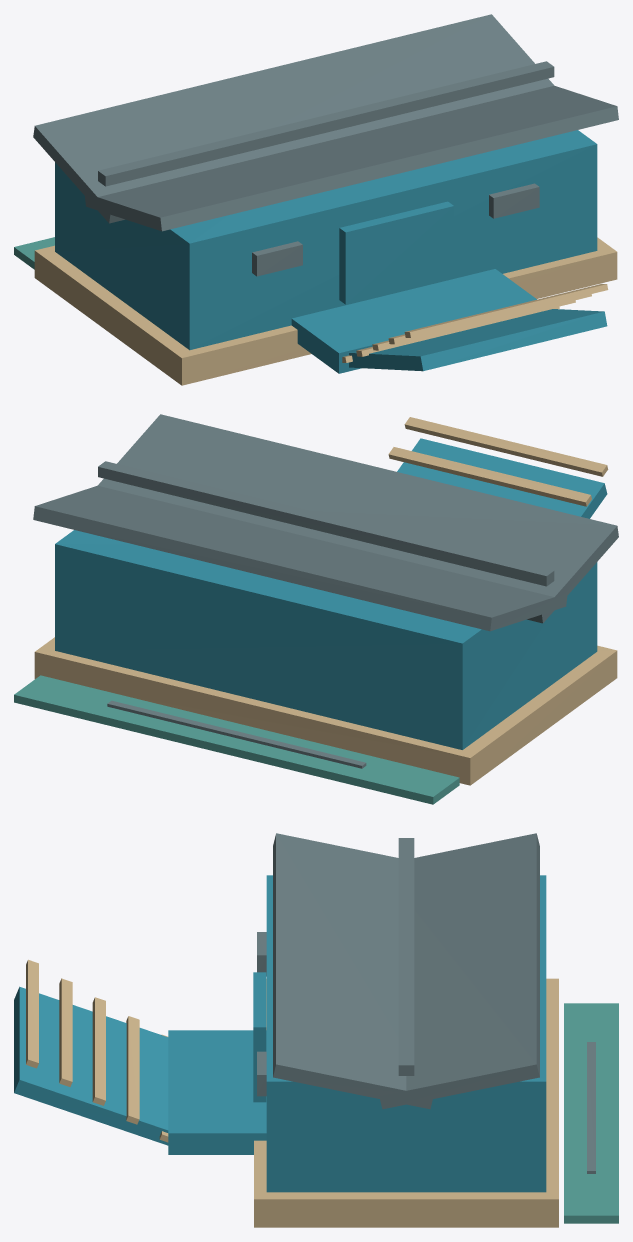
The model's file is Duck-House.glb.
3 renders of one model, top to bottom at view 1: azimuth 30°, elevation 25°; view 2: azimuth 150°, elevation 25°; view 3: azimuth 270°, elevation 25°, orthographic. The views are drawn at different scales.
Visible parts, largest first — view 1: wind-pump-static-duck-house-waterproof-timber, wind-pump-static-duck-house-galvanized-roof, wind-pump-static-duck-house-stone-curb, wind-pump-static-duck-house-dark-iron, wind-pump-static-duck-house-drainage-blue-gray; view 2: wind-pump-static-duck-house-waterproof-timber, wind-pump-static-duck-house-galvanized-roof, wind-pump-static-duck-house-stone-curb, wind-pump-static-duck-house-drainage-blue-gray, wind-pump-static-duck-house-dark-iron; view 3: wind-pump-static-duck-house-galvanized-roof, wind-pump-static-duck-house-waterproof-timber, wind-pump-static-duck-house-stone-curb, wind-pump-static-duck-house-drainage-blue-gray, wind-pump-static-duck-house-dark-iron.
Boxes of the visible parts, x1,y1,x2,y2 form: wind-pump-static-duck-house-waterproof-timber: (55, 130, 607, 373); wind-pump-static-duck-house-galvanized-roof: (33, 14, 618, 231); wind-pump-static-duck-house-stone-curb: (34, 237, 617, 385); wind-pump-static-duck-house-dark-iron: (98, 61, 554, 276); wind-pump-static-duck-house-drainage-blue-gray: (14, 237, 54, 269); wind-pump-static-duck-house-waterproof-timber: (55, 438, 607, 749); wind-pump-static-duck-house-galvanized-roof: (33, 414, 618, 631); wind-pump-static-duck-house-stone-curb: (34, 417, 617, 785); wind-pump-static-duck-house-drainage-blue-gray: (14, 675, 459, 804); wind-pump-static-duck-house-dark-iron: (98, 461, 554, 768); wind-pump-static-duck-house-galvanized-roof: (273, 833, 539, 1109); wind-pump-static-duck-house-waterproof-timber: (14, 875, 546, 1192); wind-pump-static-duck-house-stone-curb: (26, 959, 558, 1227); wind-pump-static-duck-house-drainage-blue-gray: (564, 1003, 618, 1223); wind-pump-static-duck-house-dark-iron: (257, 838, 595, 1173).
Size of the model in its own units: 2.78 by 0.9461 by 3.07.
